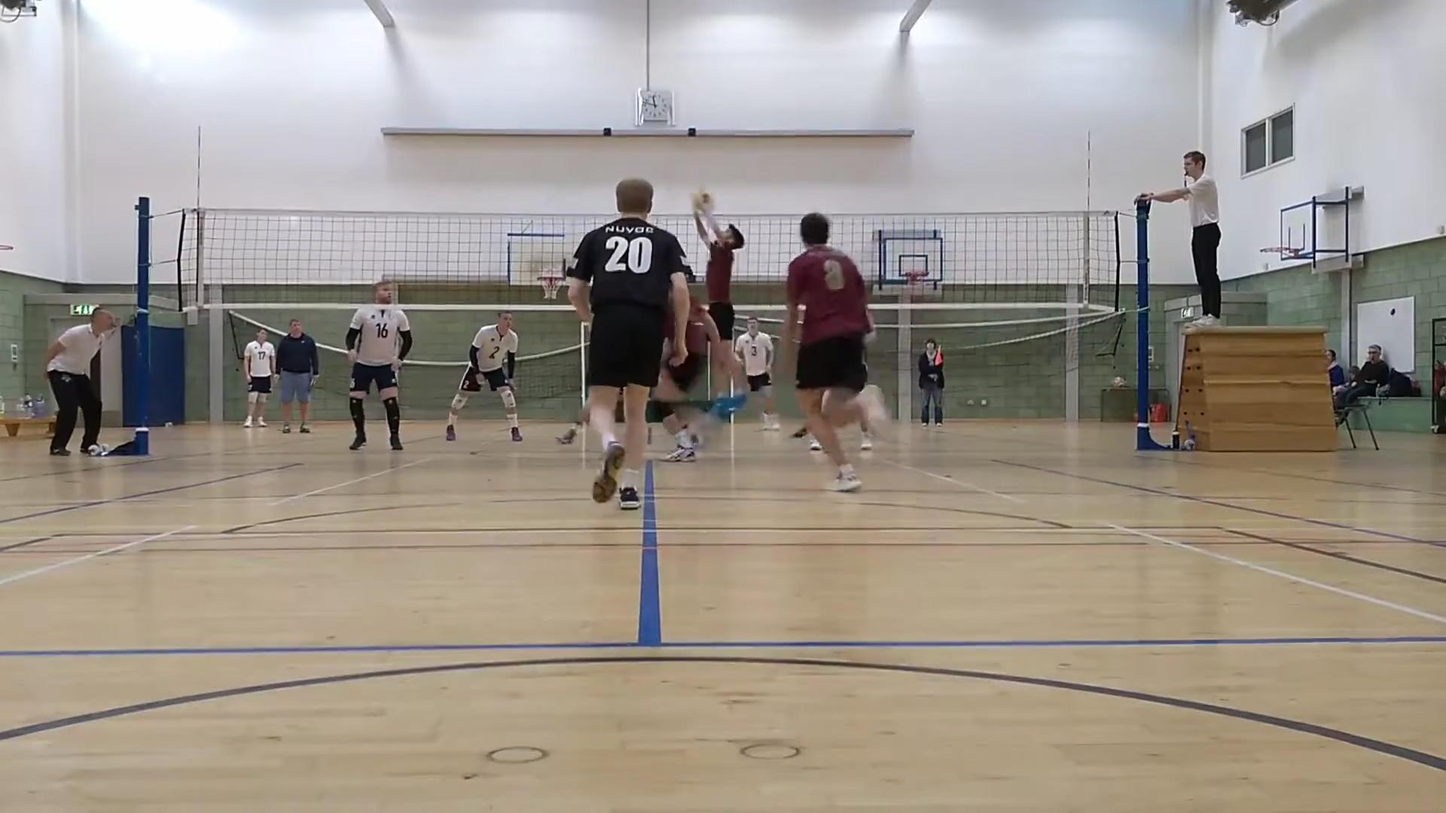alzata: (679, 194, 746, 450)
